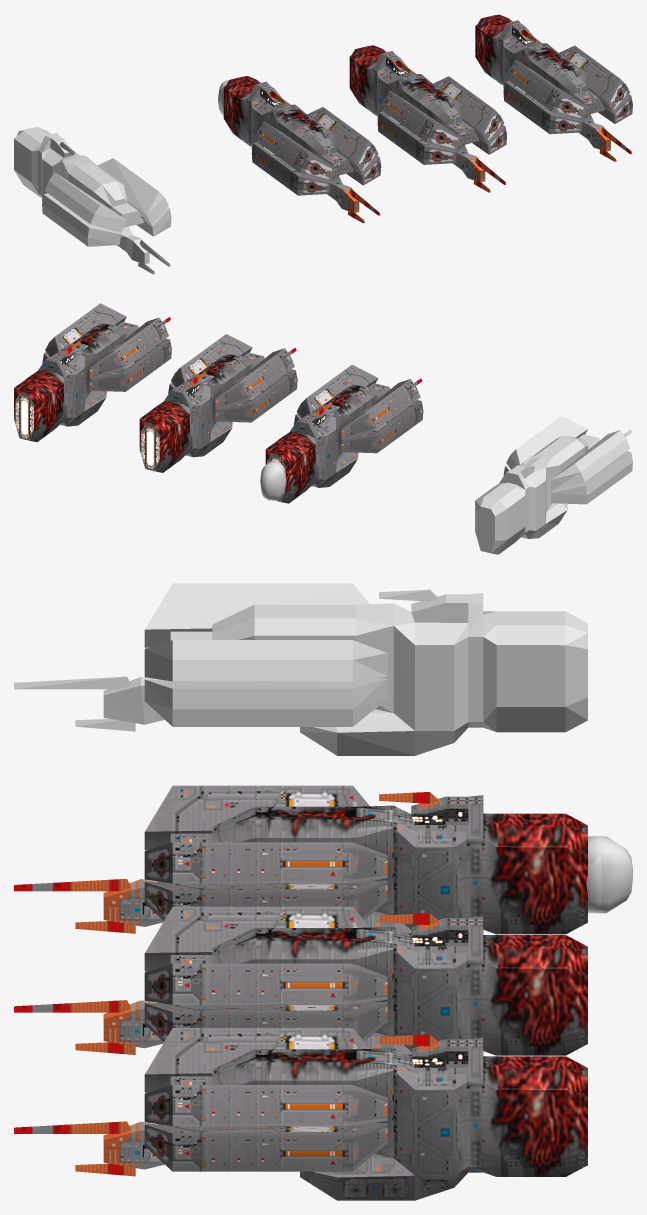
File: hgn_bst_missiledestroyer.dae
3 views of the same model, one above another, from view 1: azimuth 30°, elevation 25°; view 2: azimuth 150°, elevation 25°; view 3: azimuth 270°, elevation 25° (orthographic). The views are drawn at different scales.
Parts seen in each view (by area): view 1: MULT[Root_mesh]_LOD[0], MULT[Root_mesh]_LOD[1], MULT[Root_mesh]_LOD[2], COL[Root]; view 2: MULT[Root_mesh]_LOD[1], COL[Root], MULT[Root_mesh]_LOD[2], MULT[Root_mesh]_LOD[0], GLOW[EngineGlow4]_LOD[0]; view 3: COL[Root], MULT[Root_mesh]_LOD[2], MULT[Root_mesh]_LOD[0], MULT[Root_mesh]_LOD[1], GLOW[EngineGlow4]_LOD[0].
Boxes of the visible parts, x1,y1,x2,y2 form: MULT[Root_mesh]_LOD[0]: [223, 76, 381, 223]; MULT[Root_mesh]_LOD[1]: [349, 45, 506, 192]; MULT[Root_mesh]_LOD[2]: [475, 14, 632, 161]; COL[Root]: [14, 127, 171, 274]; MULT[Root_mesh]_LOD[1]: [139, 334, 297, 472]; COL[Root]: [475, 415, 632, 554]; MULT[Root_mesh]_LOD[2]: [14, 303, 171, 441]; MULT[Root_mesh]_LOD[0]: [265, 364, 423, 503]; GLOW[EngineGlow4]_LOD[0]: [260, 461, 284, 500]; COL[Root]: [14, 583, 587, 755]; MULT[Root_mesh]_LOD[2]: [14, 1028, 587, 1200]; MULT[Root_mesh]_LOD[0]: [14, 785, 587, 934]; MULT[Root_mesh]_LOD[1]: [14, 906, 587, 1056]; GLOW[EngineGlow4]_LOD[0]: [588, 836, 632, 913].
Size of what is drawn, in the model's own units: 821 by 112 by 408.
7 materials, 7 textured.
